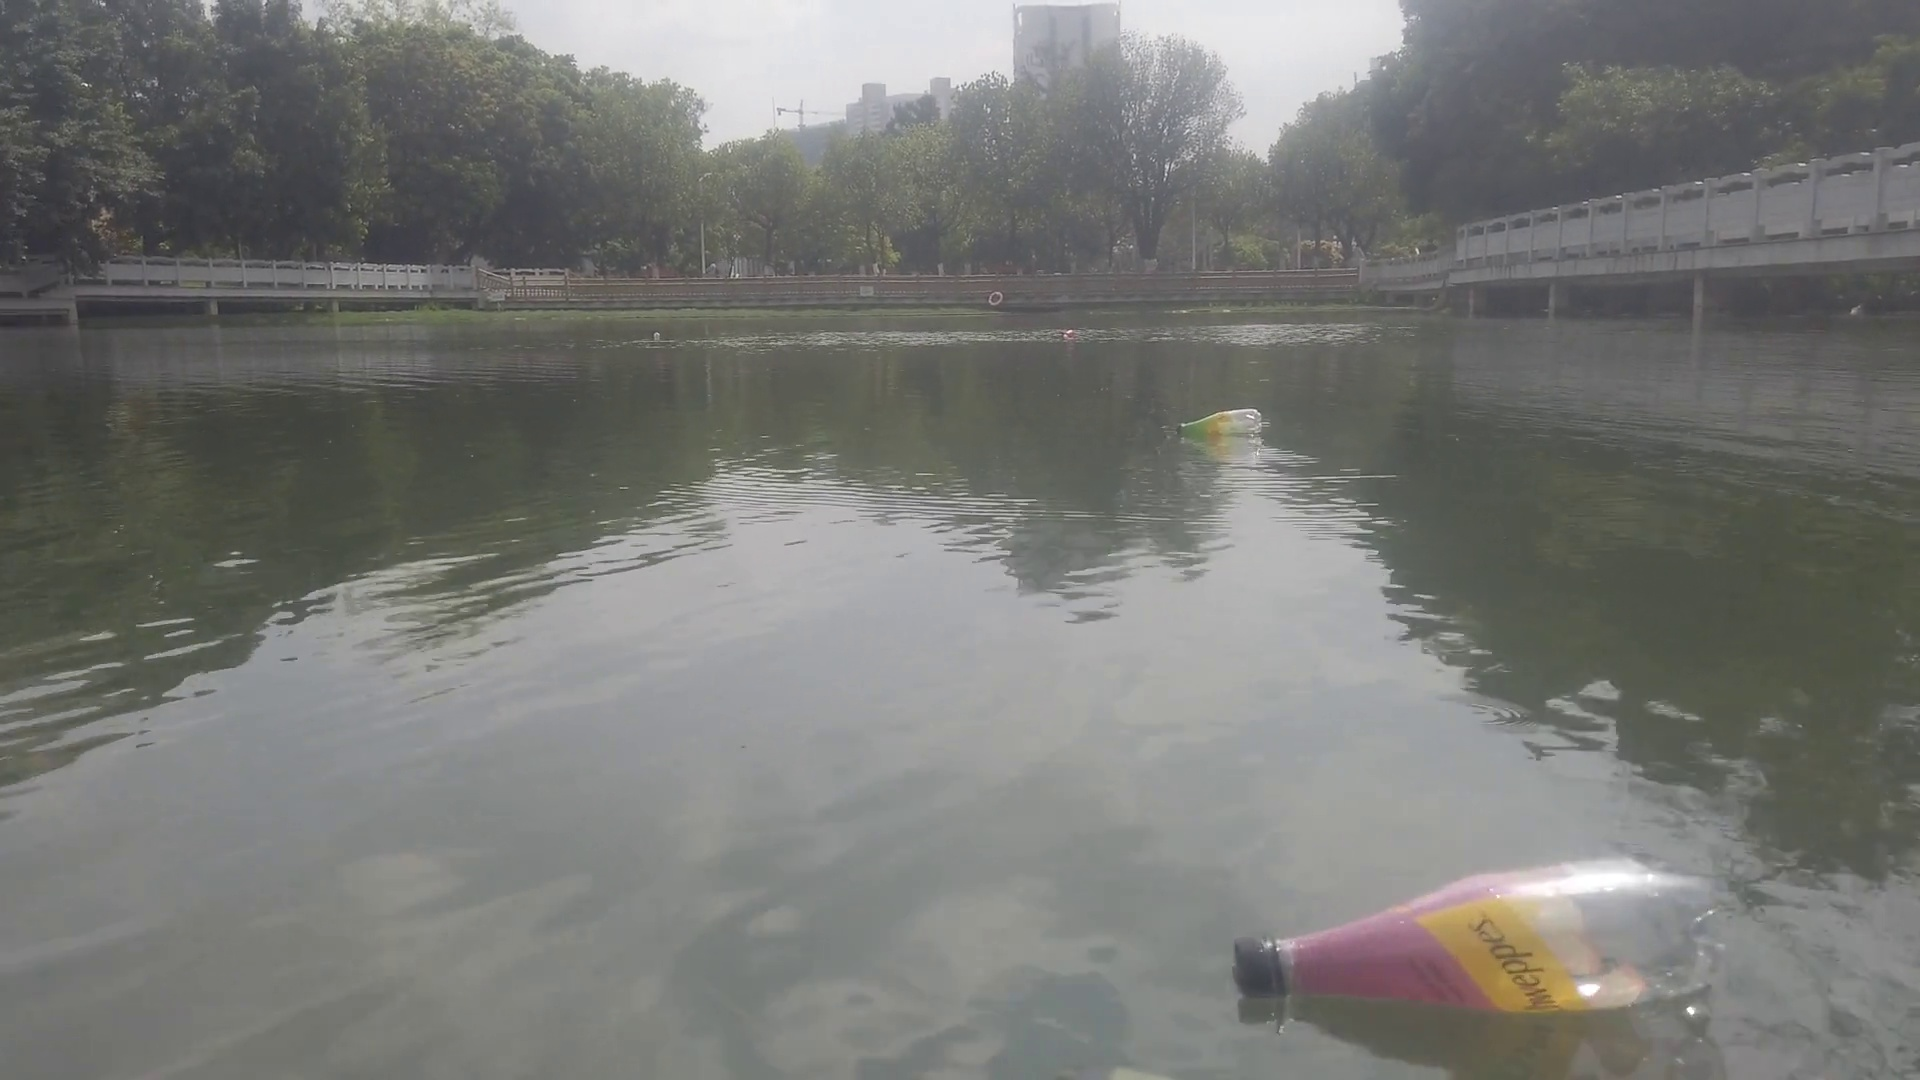bottle: (1232, 852, 1735, 1015), (1178, 407, 1269, 440), (647, 326, 665, 343), (1062, 326, 1079, 342)
